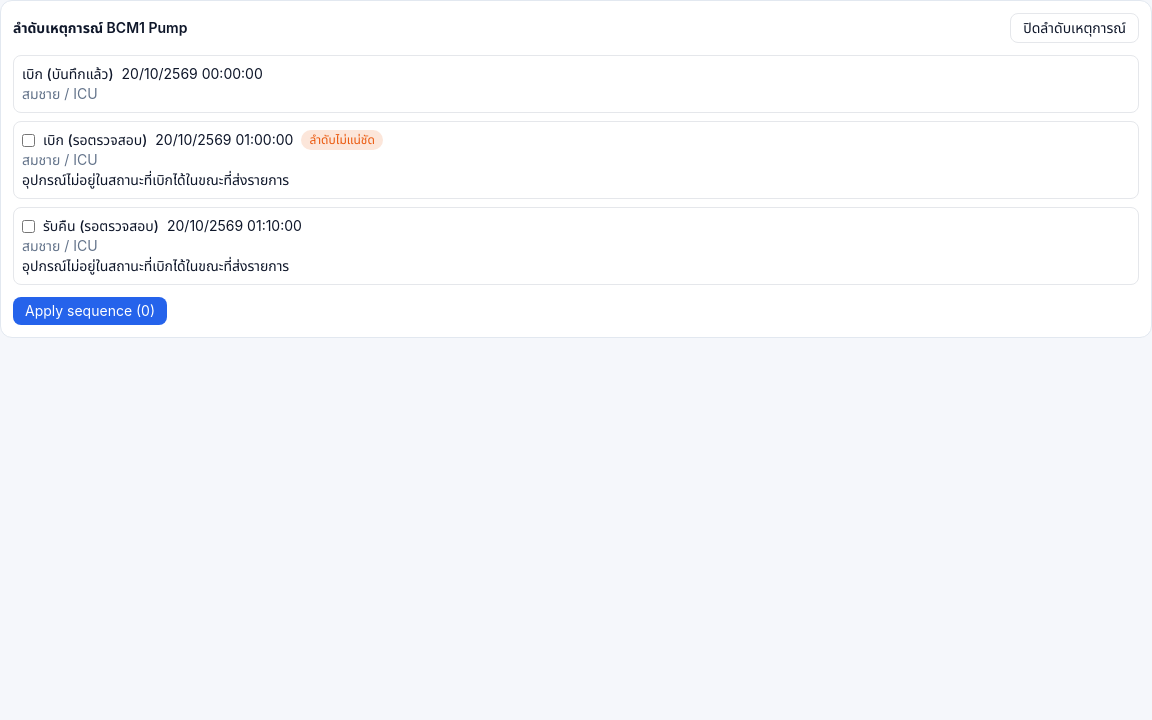
SyncTimelinePanel › reports a partial run that stopped at the first failure
The image size is (1152, 720).
Click the checkbox named "เลือก เบิก 20/10/2569 01:00:00": {"x": 28, "y": 140} [22,134,35,146]
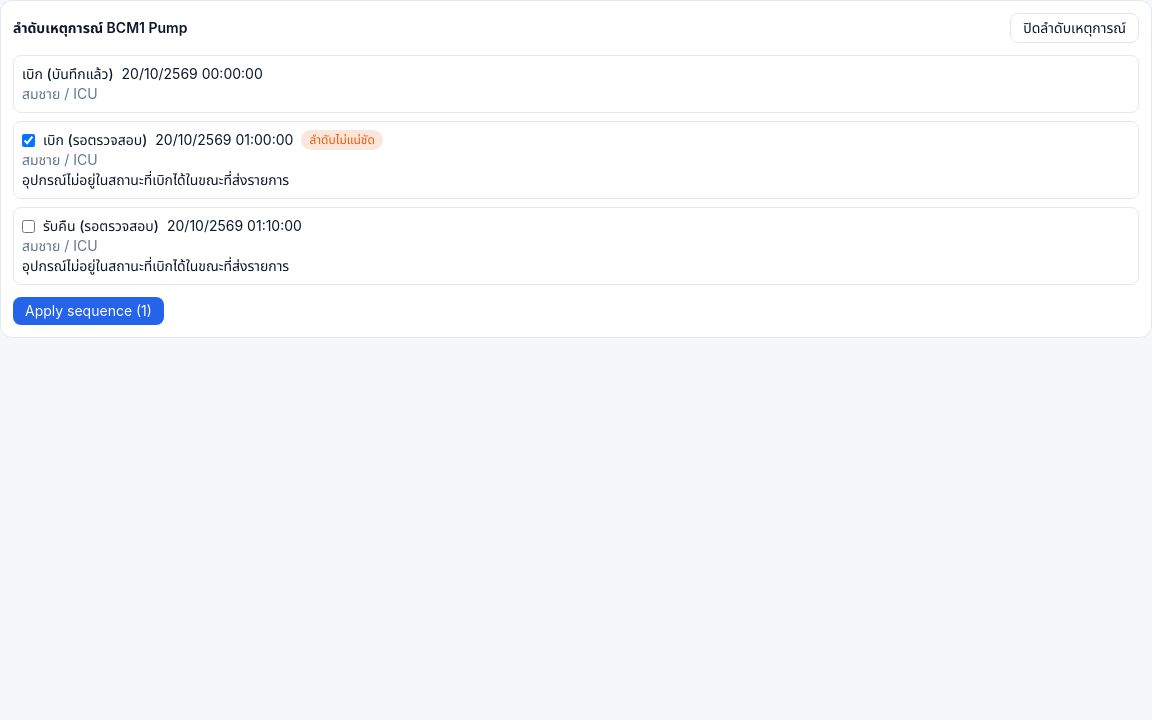
Click the checkbox named "เลือก รับคืน 20/10/2569 01:10:00": {"x": 28, "y": 226} [22,220,35,232]
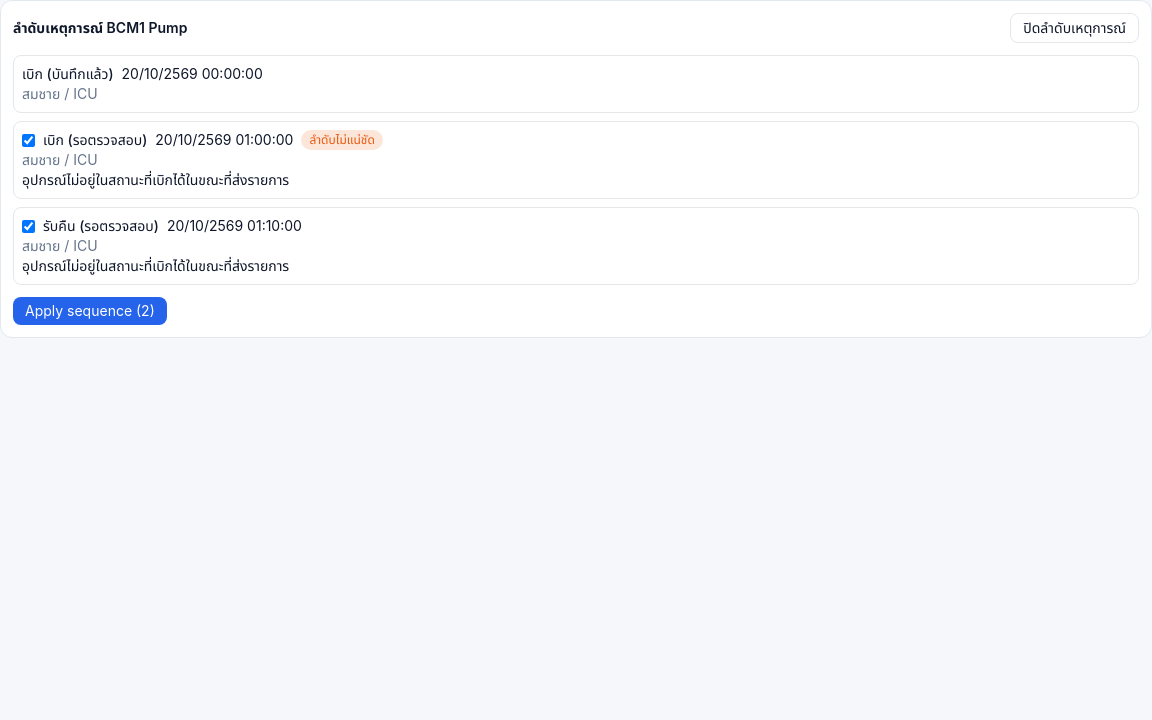
Click the button "Apply sequence (2)": {"x": 90, "y": 311} [13,297,167,325]
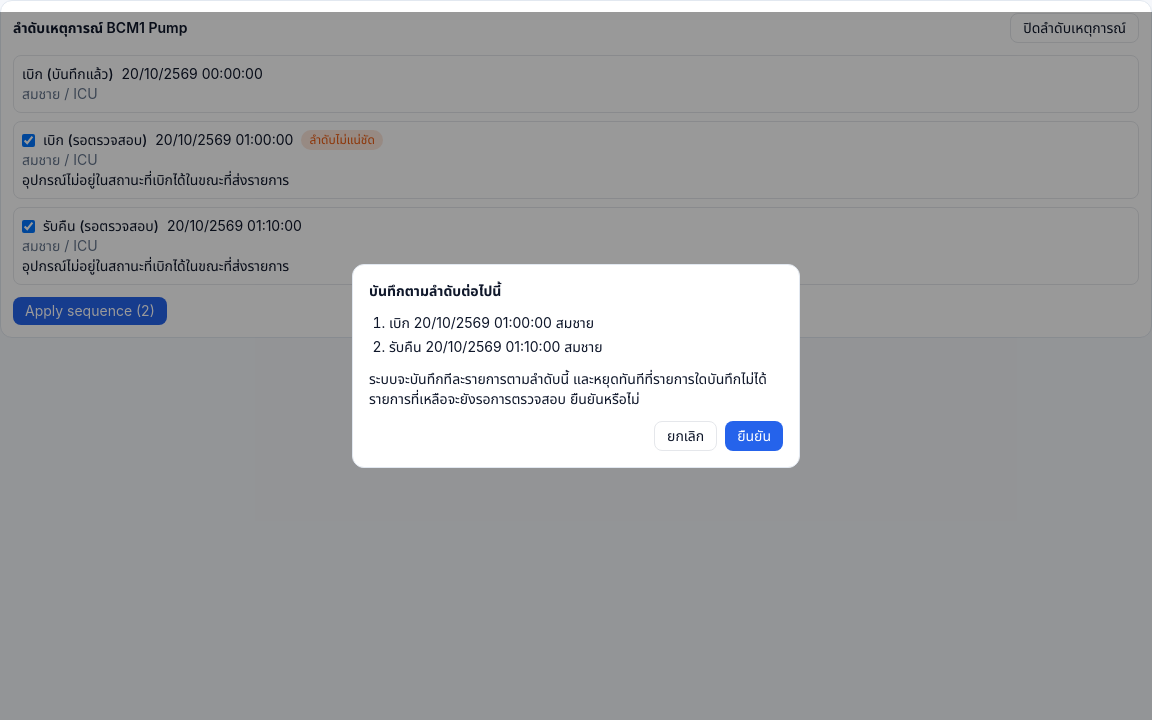
Click the button "ยืนยัน": {"x": 754, "y": 436} [725,421,783,451]
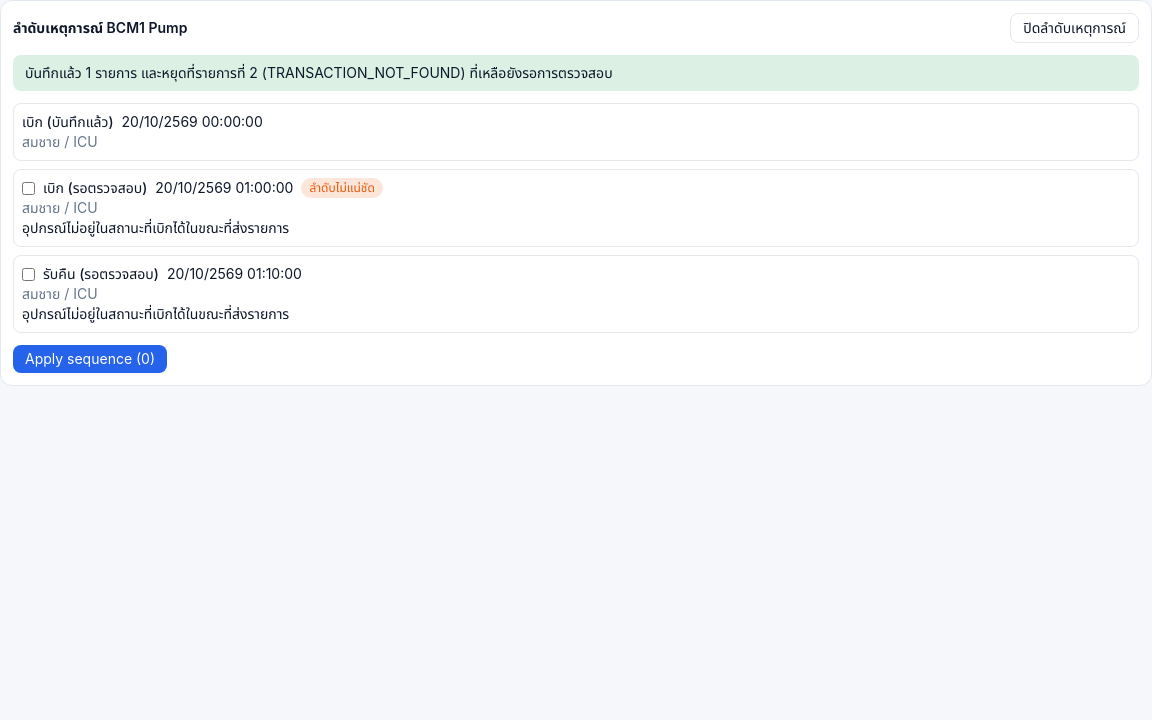
Expected: the text "หยุดที่รายการที่ 2" is shown, [25,64,613,81]
